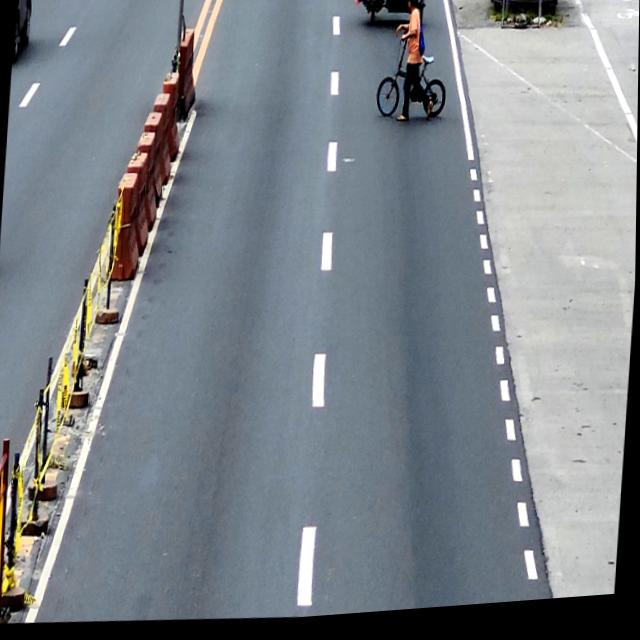Bicycle: (375, 30, 451, 131)
Tricycle: (360, 0, 428, 37)
